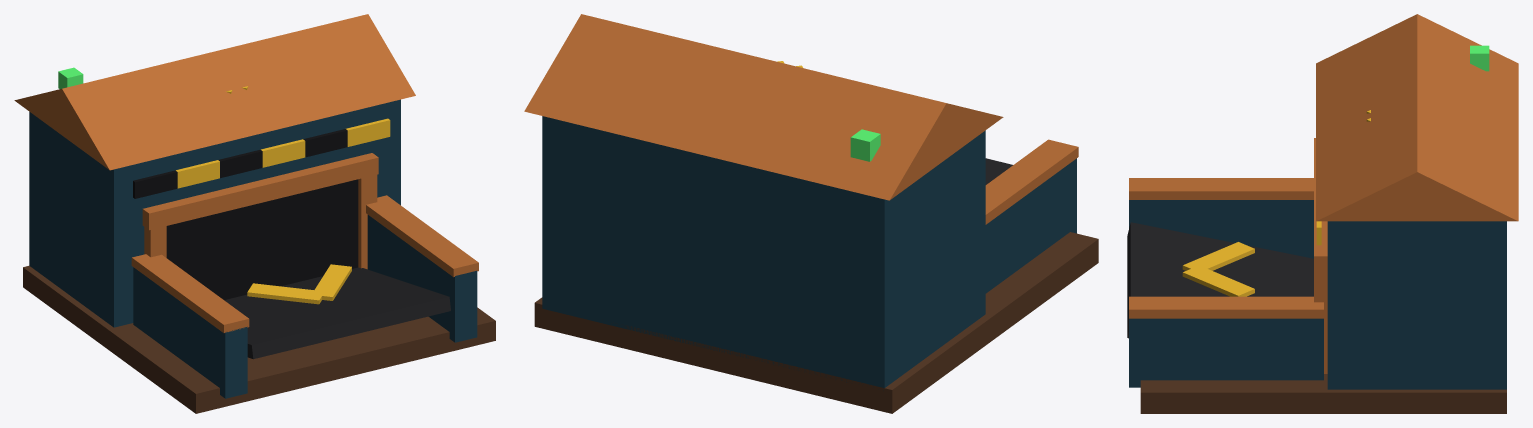
Rendered from underground_out.obj.
3 renders of one model, left to right at view 1: azimuth 30°, elevation 25°; view 2: azimuth 150°, elevation 25°; view 3: azimuth 270°, elevation 25°, orthographic. The views are drawn at different scales.
Parts seen in each view (by area): view 1: Body, Frame, Belt, Arrows, Lamp; view 2: Body, Frame, Lamp; view 3: Body, Frame, Belt, Arrows, Lamp.
Part boxes in pixels (x1,y1,x2,y2): Body: [14, 14, 495, 413]; Frame: [131, 195, 478, 398]; Belt: [224, 267, 450, 359]; Arrows: [226, 86, 351, 304]; Lamp: [58, 67, 83, 88]; Body: [524, 14, 1098, 413]; Frame: [985, 139, 1078, 293]; Lamp: [850, 129, 880, 161]; Body: [1140, 14, 1518, 413]; Frame: [1129, 178, 1323, 387]; Belt: [1127, 222, 1313, 338]; Arrows: [1182, 110, 1370, 296]; Lamp: [1470, 45, 1489, 71].
Bounding box in the file's own units: 0.96 × 0.69 × 1.
